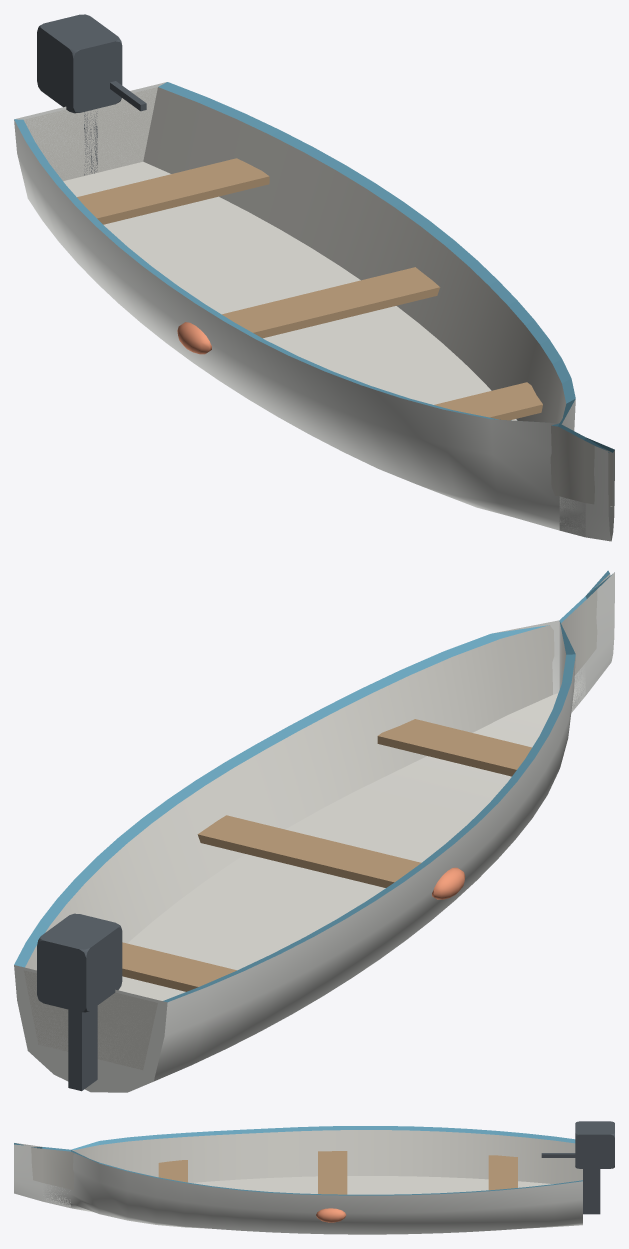
The model's file is boat_fishing.glb.
3 renders of one model, top to bottom at view 1: azimuth 30°, elevation 25°; view 2: azimuth 150°, elevation 25°; view 3: azimuth 270°, elevation 25°, orthographic. The views are drawn at different scales.
Visible parts, largest first — view 1: BoatDeck, BoatHull, BoatBenches, BoatGunwale, OutboardMotor, BoatFenders; view 2: BoatDeck, BoatHull, BoatBenches, BoatGunwale, OutboardMotor, BoatFenders; view 3: BoatDeck, BoatHull, BoatGunwale, BoatBenches, OutboardMotor, BoatFenders.
Part boxes in pixels (x1,y1,x2,y2): BoatDeck: [24, 87, 612, 506]; BoatHull: [14, 82, 614, 541]; BoatBenches: [77, 158, 542, 420]; BoatGunwale: [14, 82, 614, 452]; OutboardMotor: [37, 14, 146, 175]; BoatFenders: [177, 322, 211, 354]; BoatDeck: [23, 574, 610, 1070]; BoatHull: [14, 572, 614, 1092]; BoatBenches: [122, 719, 531, 991]; BoatGunwale: [14, 570, 612, 1002]; OutboardMotor: [37, 913, 122, 1091]; BoatFenders: [432, 867, 465, 899]; BoatDeck: [31, 1130, 582, 1194]; BoatHull: [14, 1143, 582, 1234]; BoatGunwale: [14, 1126, 582, 1195]; BoatBenches: [158, 1151, 517, 1194]; OutboardMotor: [541, 1121, 614, 1214]; BoatFenders: [316, 1208, 346, 1222].
Bounding box in the file's own units: 2.02 × 1.18 × 6.97.
